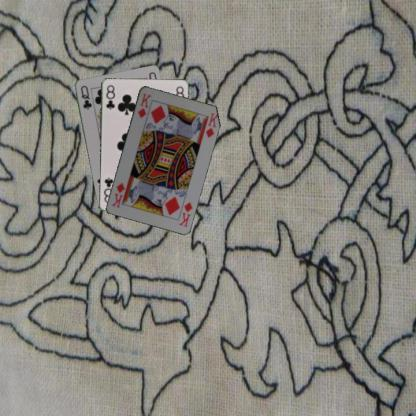8c: (104, 82, 116, 110)
Kd: (175, 197, 194, 228), (135, 90, 153, 119)
Qc: (78, 82, 93, 110)
